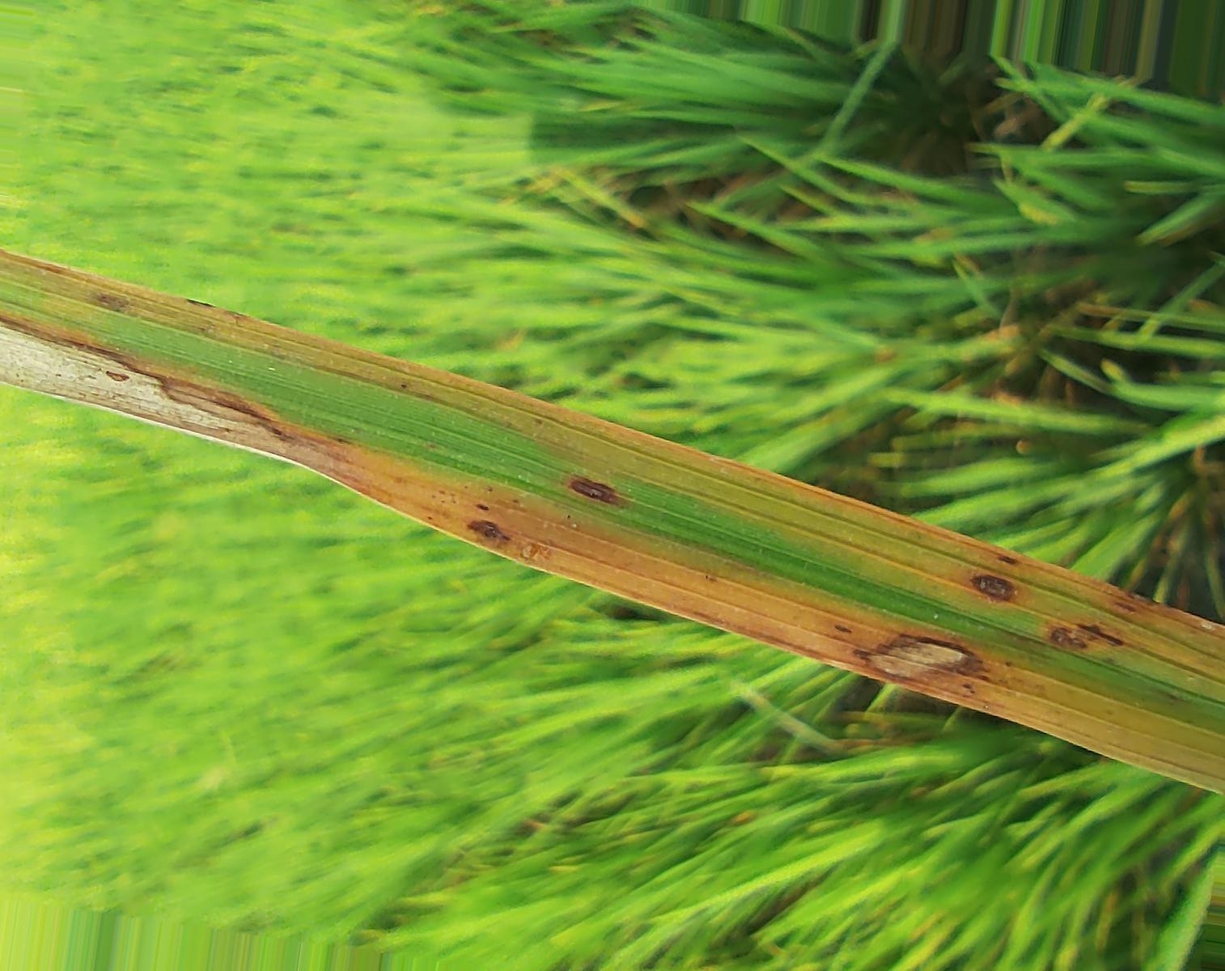LEAF: (0, 252, 1224, 791)
LEAF BLAST: (1, 319, 364, 492), (854, 634, 987, 682), (570, 477, 618, 503), (1077, 623, 1125, 647), (973, 575, 1013, 600), (1049, 628, 1087, 649)
